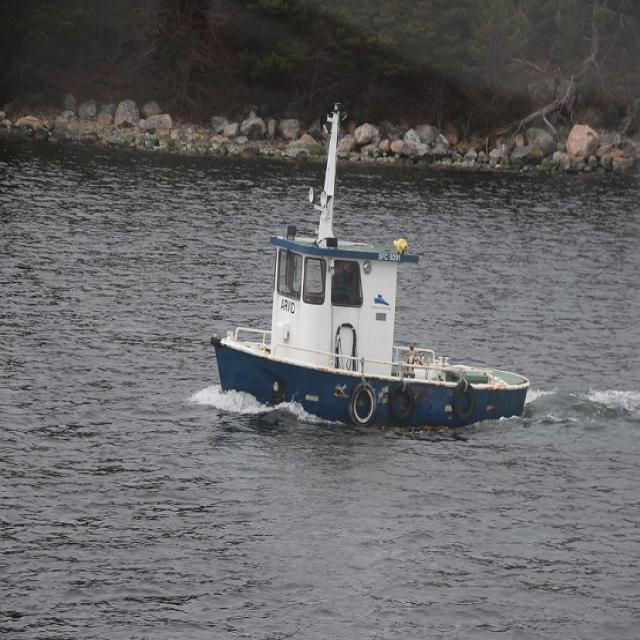houseboat: (208, 108, 526, 440)
